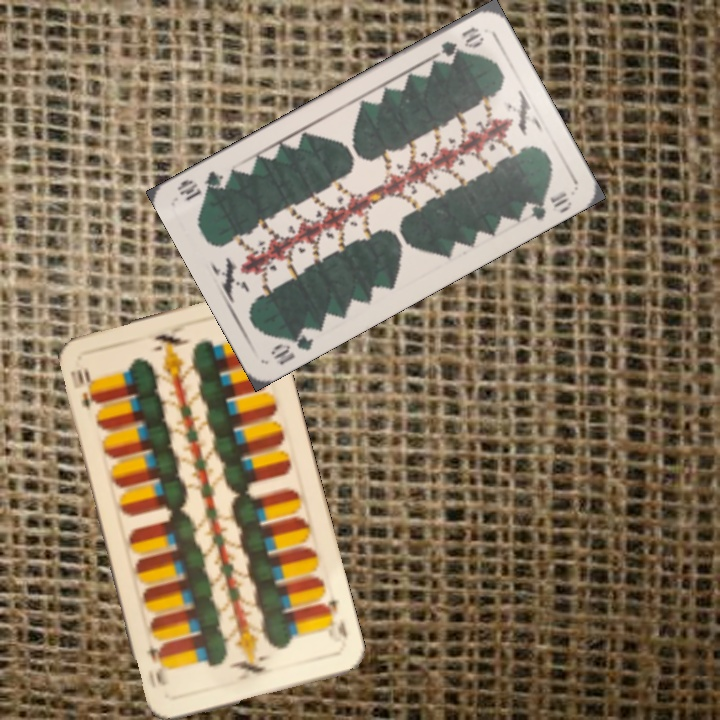E10: (66, 365, 99, 413), (317, 595, 350, 641)
G10: (266, 323, 317, 368), (430, 22, 487, 60)
